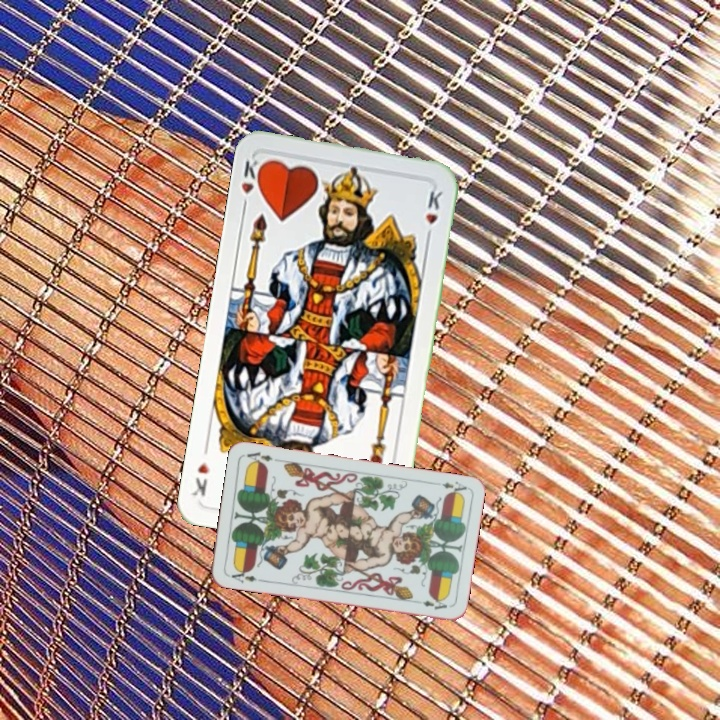EA: (429, 477, 469, 497), (224, 565, 259, 586)
HK: (237, 156, 267, 213)
